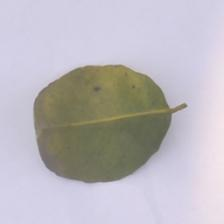black spot: (28, 56, 190, 186)
